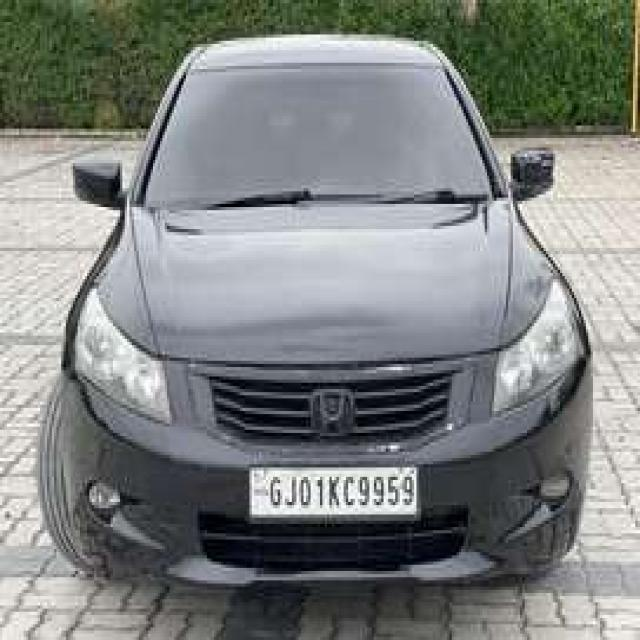Plate: (246, 466, 415, 516)
